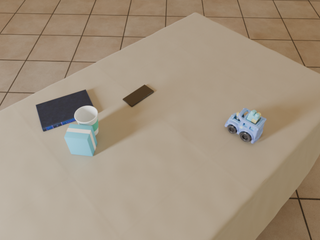book: (36, 90, 94, 131)
box: (64, 124, 97, 156)
cup: (75, 106, 98, 135)
phone: (123, 85, 154, 107)
toy_car: (225, 108, 266, 143)
